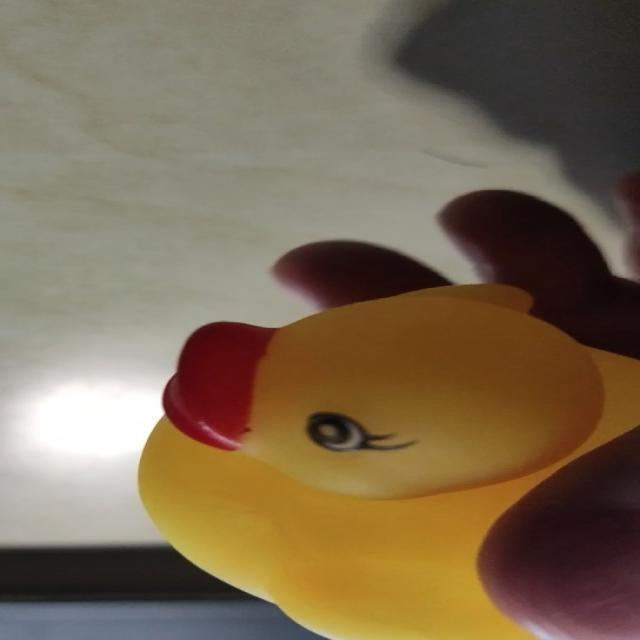rubber-duck: (138, 284, 638, 638), (209, 330, 265, 374)
